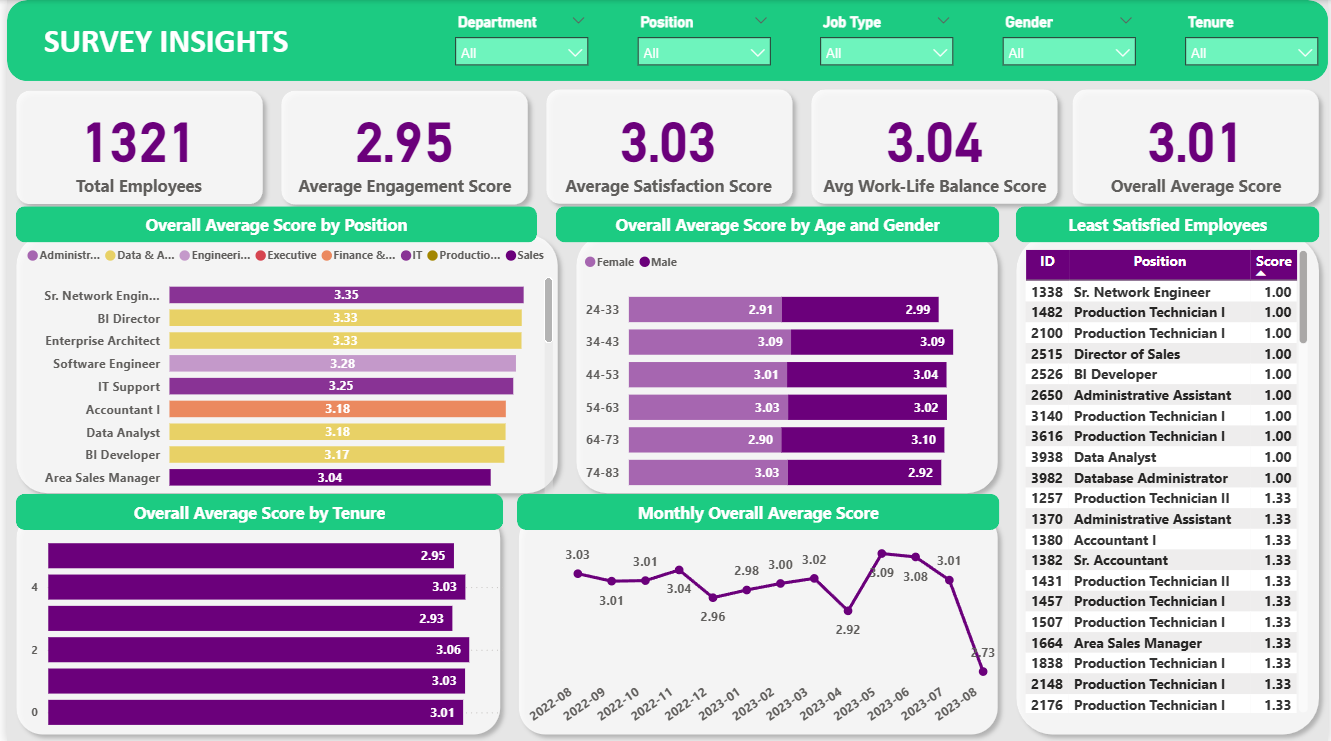

What the dashboard file says about the page in this screenshot:
{"tool":"powerbi","page":{"name":"Survey","canvas":[1280,720],"ordinal":3},"visuals":[{"type":"shape","box":[486.6,486.6,481.8,233.6],"z":0},{"type":"shape","box":[542.3,217.9,426.1,268.7],"z":1000},{"type":"shape","box":[0,486.6,486.6,233.6],"z":2000},{"type":"shape","box":[0,217.9,542.3,268.7],"z":3000},{"type":"barChart","fields":{"Category":["silver Employees.title"],"Y":["Avg(silver EngagementSurvey.overall_avg_score)"],"Series":["silver Employees.department"]},"box":[14.5,228.8,519.3,256.6],"z":5000},{"type":"barChart","fields":{"Category":["silver Employees.age_group"],"Y":["Avg(silver EngagementSurvey.overall_avg_score)"],"Series":["silver Employees.gender"]},"box":[554.4,234.8,409.1,253],"z":6000},{"type":"shape","box":[0,78.7,256.6,128],"z":7000},{"type":"shape","box":[256.6,78.7,256.6,128.3],"z":8000},{"type":"shape","box":[512.9,78,256.4,128.8],"z":9000},{"type":"shape","box":[769.3,78,256.4,128.8],"z":10000},{"type":"shape","box":[1023.3,78,256.4,128.8],"z":11000},{"type":"card","fields":{"Values":["Count(silver EngagementSurvey.employee_id)"]},"box":[8.5,87.2,238.5,110.2],"z":12000},{"type":"card","fields":{"Values":["Avg(silver EngagementSurvey.engagement_score)"]},"box":[266.3,87,238,110.4],"z":13000},{"type":"card","fields":{"Values":["Avg(silver EngagementSurvey.satisfaction_score)"]},"box":[521.5,87,238,110.4],"z":14000},{"type":"card","fields":{"Values":["Avg(silver EngagementSurvey.work_life_balance_score)"]},"box":[779.1,87,238,110.4],"z":15000},{"type":"card","fields":{"Values":["Avg(silver EngagementSurvey.overall_avg_score)"]},"box":[1033.1,87,238,110.4],"z":16000},{"type":"clusteredBarChart","fields":{"Category":["silver Employees.Tenure (in years)"],"Y":["Avg(silver EngagementSurvey.overall_avg_score)"]},"box":[18.2,513.3,468.5,200.9],"z":17000},{"type":"shape","box":[968.4,217.9,311.1,502.4],"z":18000},{"type":"tableEx","fields":{"Values":["silver EngagementSurvey.employee_id","silver Employees.title","Sum(silver EngagementSurvey.overall_avg_score)"]},"box":[980.5,237.3,284.5,457.6],"z":19000},{"type":"lineChart","fields":{"Category":["silver EngagementSurvey.YearMonth"],"Y":["Avg(silver EngagementSurvey.overall_avg_score)"]},"box":[499.9,518.1,463.6,200.9],"z":20000},{"type":"shape","box":[8.5,199.7,504.8,35.1],"z":21000},{"type":"shape","box":[531.4,199.7,429.7,35.1],"z":22000},{"type":"shape","box":[976.9,199.7,294.2,35.1],"z":23000},{"type":"shape","box":[8.5,478.1,472.1,35.1],"z":24000},{"type":"shape","box":[493.9,478.1,467.3,35.1],"z":25000},{"type":"shape","box":[0,0,1279.5,78.7],"z":25001},{"type":"slicer","fields":{"Values":["silver Employees.department"]},"box":[423.2,7.3,148.9,65.4],"z":25002},{"type":"slicer","fields":{"Values":["silver Employees.title"]},"box":[600,7.3,148.9,65.4],"z":25003},{"type":"slicer","fields":{"Values":["silver Employees.employment_type"]},"box":[776.9,7.3,148.9,65.4],"z":25004},{"type":"slicer","fields":{"Values":["silver Employees.gender"]},"box":[953.8,7.3,148.9,65.4],"z":25005},{"type":"slicer","fields":{"Values":["silver Employees.Tenure (in years)"]},"box":[1130.6,7.3,148.9,65.4],"z":25006}]}

Visuals, with their boxes in screenshot pixels (x1, y1, x2, y2), scaled from the page's 1280x720 canvas onto the 1331x741 screenshot:
shape: BBox(506, 501, 1007, 740)
shape: BBox(564, 224, 1007, 501)
shape: BBox(0, 501, 506, 740)
shape: BBox(0, 224, 564, 501)
barChart - silver Employees.title x Avg(silver EngagementSurvey.overall_avg_score): BBox(15, 235, 555, 500)
barChart - silver Employees.age_group x Avg(silver EngagementSurvey.overall_avg_score): BBox(576, 242, 1002, 502)
shape: BBox(0, 81, 267, 213)
shape: BBox(267, 81, 534, 213)
shape: BBox(533, 80, 800, 213)
shape: BBox(800, 80, 1067, 213)
shape: BBox(1064, 80, 1330, 213)
card - Count(silver EngagementSurvey.employee_id): BBox(9, 90, 257, 203)
card - Avg(silver EngagementSurvey.engagement_score): BBox(277, 90, 524, 203)
card - Avg(silver EngagementSurvey.satisfaction_score): BBox(542, 90, 790, 203)
card - Avg(silver EngagementSurvey.work_life_balance_score): BBox(810, 90, 1058, 203)
card - Avg(silver EngagementSurvey.overall_avg_score): BBox(1074, 90, 1322, 203)
clusteredBarChart - silver Employees.Tenure (in years) x Avg(silver EngagementSurvey.overall_avg_score): BBox(19, 528, 506, 735)
shape: BBox(1007, 224, 1330, 740)
tableEx - silver EngagementSurvey.employee_id x silver Employees.title: BBox(1020, 244, 1315, 715)
lineChart - silver EngagementSurvey.YearMonth x Avg(silver EngagementSurvey.overall_avg_score): BBox(520, 533, 1002, 740)
shape: BBox(9, 206, 534, 242)
shape: BBox(553, 206, 999, 242)
shape: BBox(1016, 206, 1322, 242)
shape: BBox(9, 492, 500, 528)
shape: BBox(514, 492, 999, 528)
shape: BBox(0, 0, 1330, 81)
slicer - silver Employees.department: BBox(440, 8, 595, 75)
slicer - silver Employees.title: BBox(624, 8, 779, 75)
slicer - silver Employees.employment_type: BBox(808, 8, 963, 75)
slicer - silver Employees.gender: BBox(992, 8, 1147, 75)
slicer - silver Employees.Tenure (in years): BBox(1176, 8, 1330, 75)
